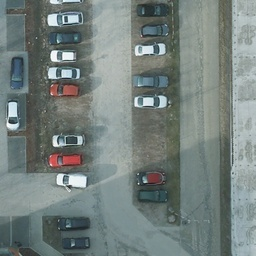car: (135, 1, 170, 17), (4, 98, 20, 132), (48, 11, 81, 27), (134, 169, 167, 185), (55, 172, 86, 188), (55, 216, 90, 230), (48, 49, 80, 64), (47, 31, 81, 45), (49, 133, 83, 147), (137, 22, 173, 35), (9, 53, 22, 87), (47, 154, 82, 166), (133, 95, 165, 108), (133, 76, 167, 88), (136, 189, 167, 202), (133, 43, 169, 54), (60, 236, 89, 249), (47, 85, 81, 96), (48, 68, 78, 80), (48, 0, 79, 5)
